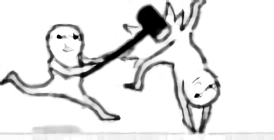dragon: (190, 75, 214, 102), (55, 32, 78, 54)
